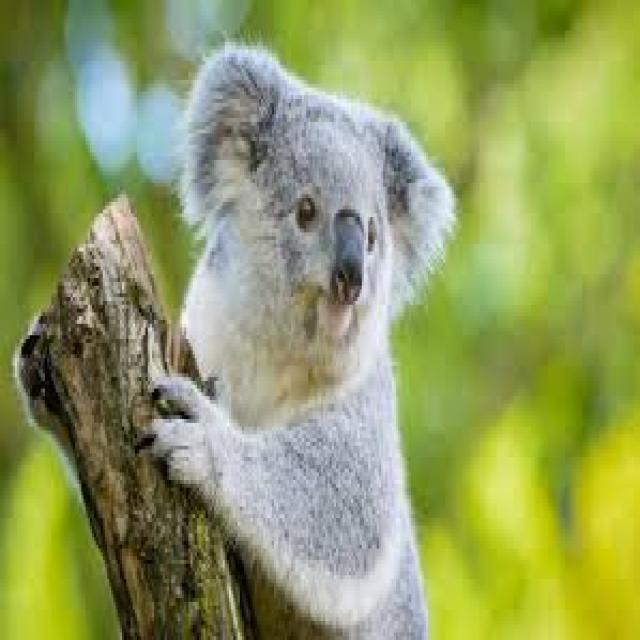Koala: (143, 27, 454, 640)
